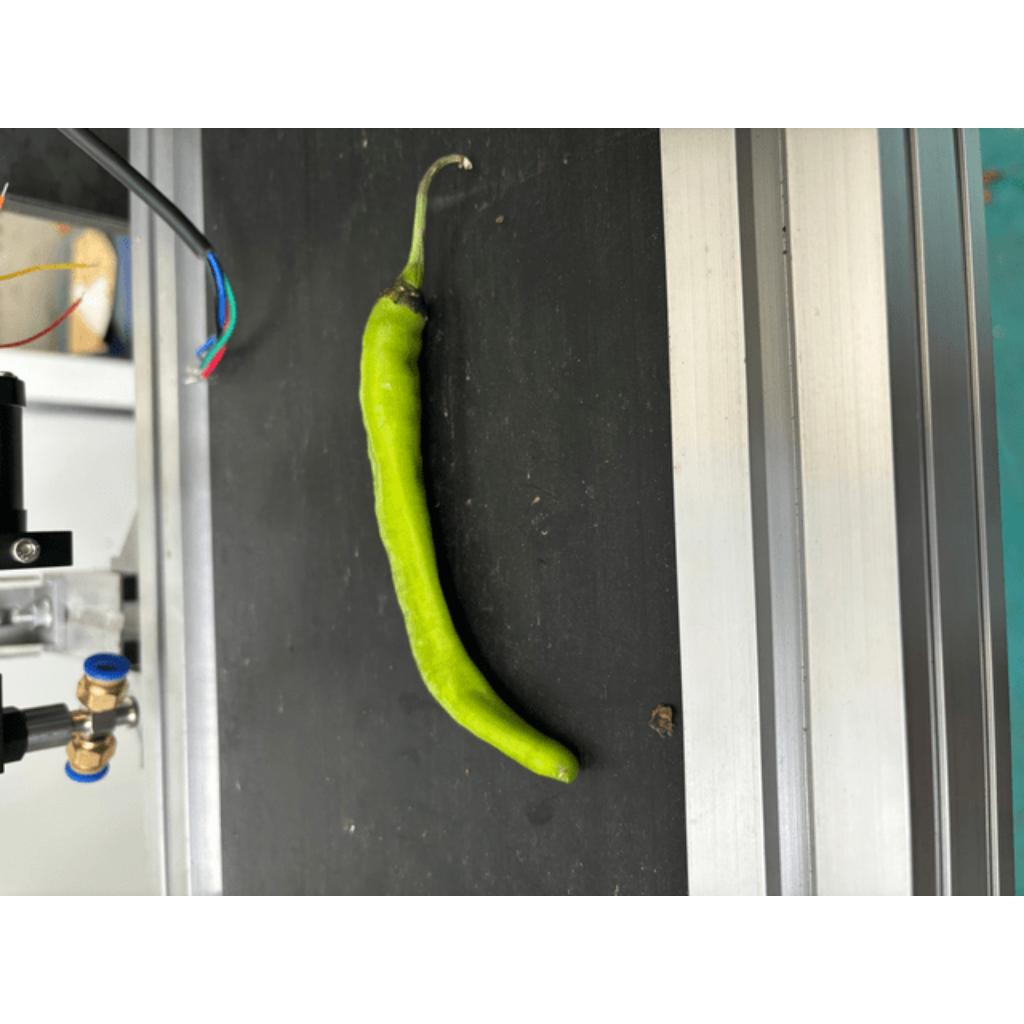chili: (355, 278, 584, 788)
